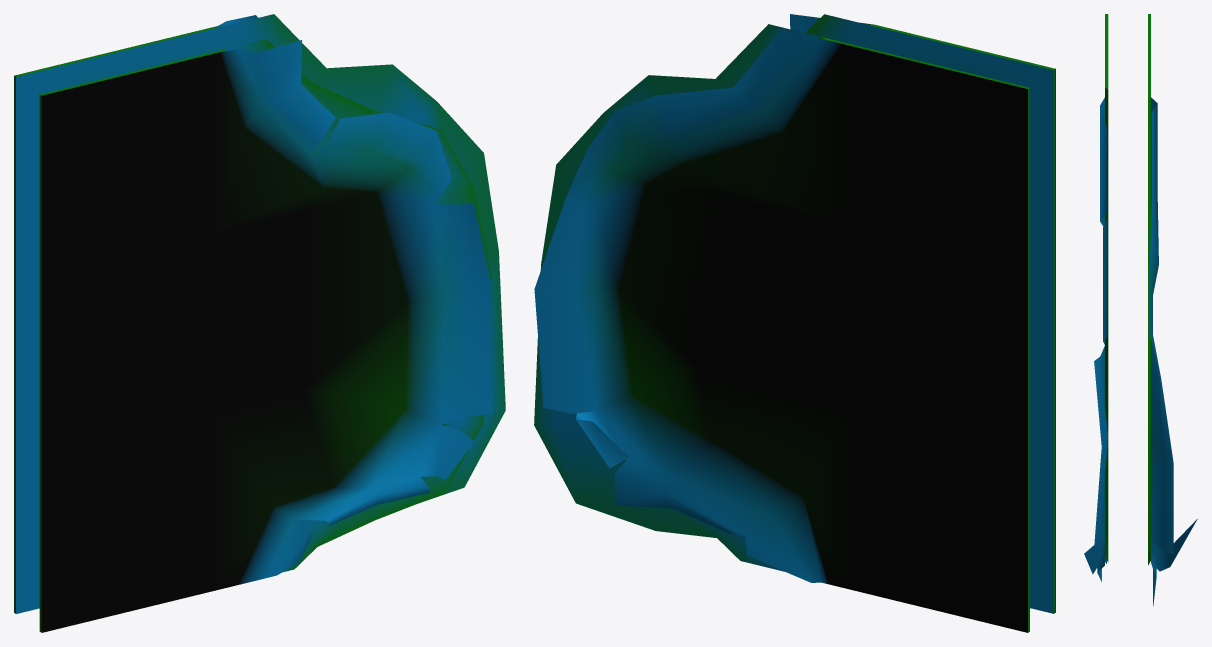
File: DBK_Drywall_Side_A.fbx
3 views of the same model, side by side, from view 1: azimuth 30°, elevation 25°; view 2: azimuth 150°, elevation 25°; view 3: azimuth 270°, elevation 25° (orthographic). The views are drawn at different scales.
Visible parts, largest first — view 1: DBK_Drywall_Side_A; view 2: DBK_Drywall_Side_A; view 3: DBK_Drywall_Side_A.
Part boxes in pixels (<box>): DBK_Drywall_Side_A: <box>14,14,505,632</box>; DBK_Drywall_Side_A: <box>534,14,1055,632</box>; DBK_Drywall_Side_A: <box>1084,14,1197,606</box>.
Size of what is drawn, in the model's own units: 286 by 301 by 68.82.
